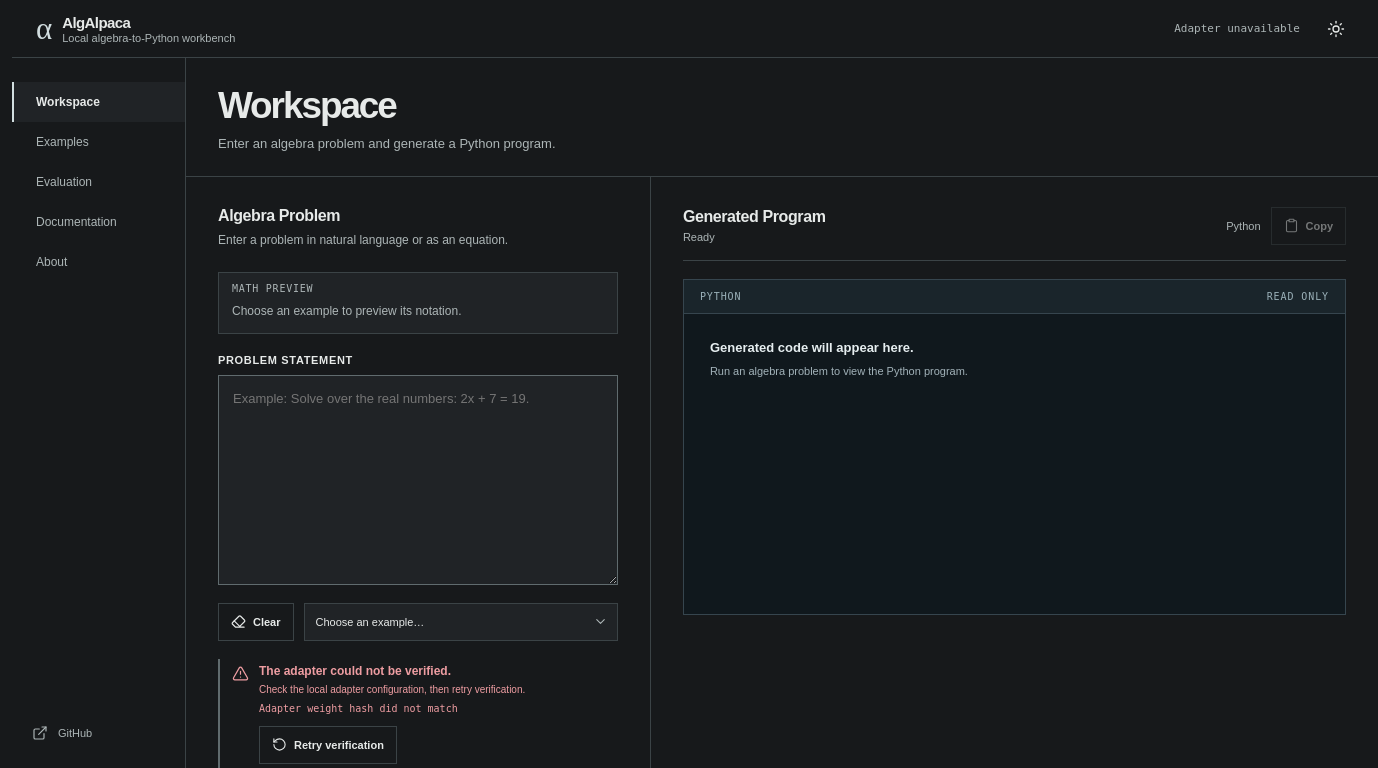
Test: verification and request recovery › enables generation after a deliberate successful retry without losing input
Step 1. Type "Solve x + 1 = 2." into the text box labelled "Problem statement" → (418, 480), box x1=218 y1=375 x2=618 y2=585
(page scrolled)
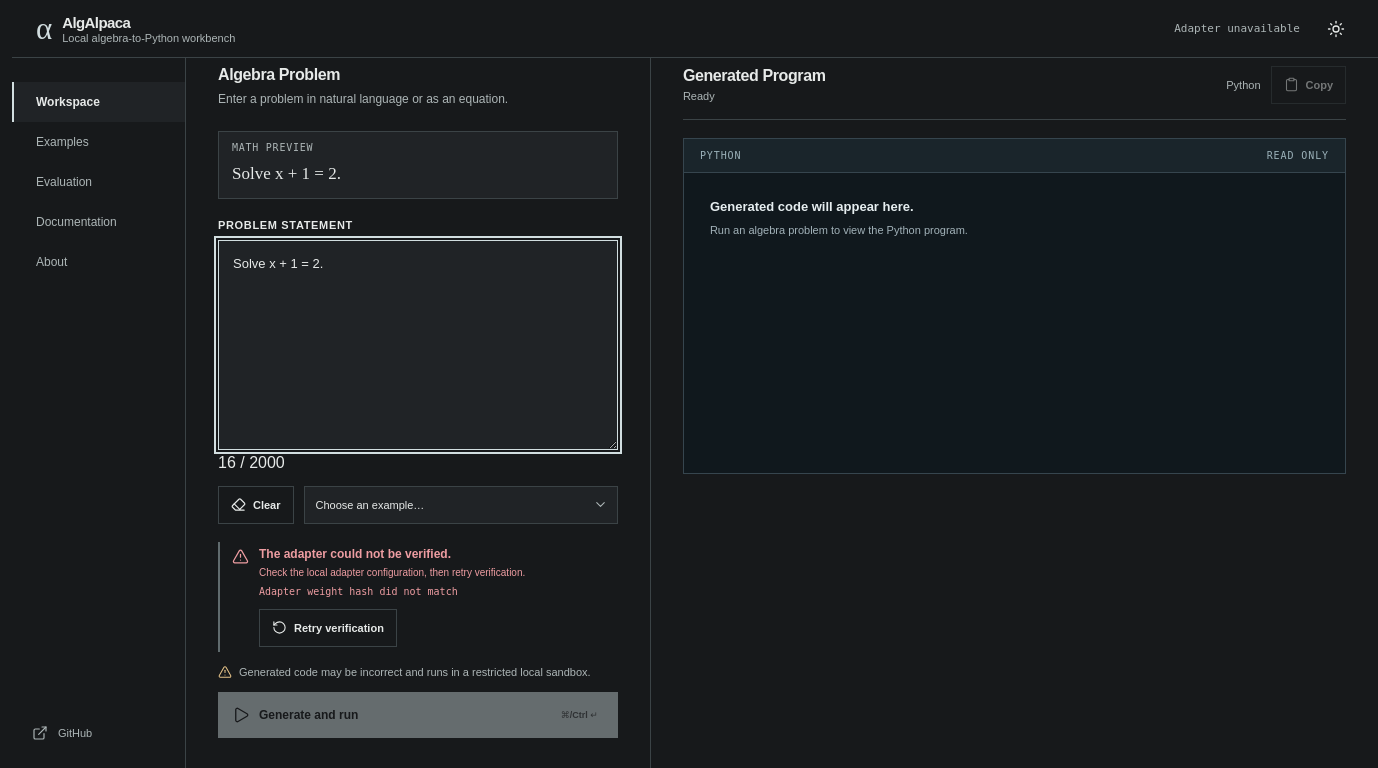
Step 2. Click the button "Retry verification" → (328, 628), box x1=259 y1=609 x2=397 y2=647
(page scrolled)
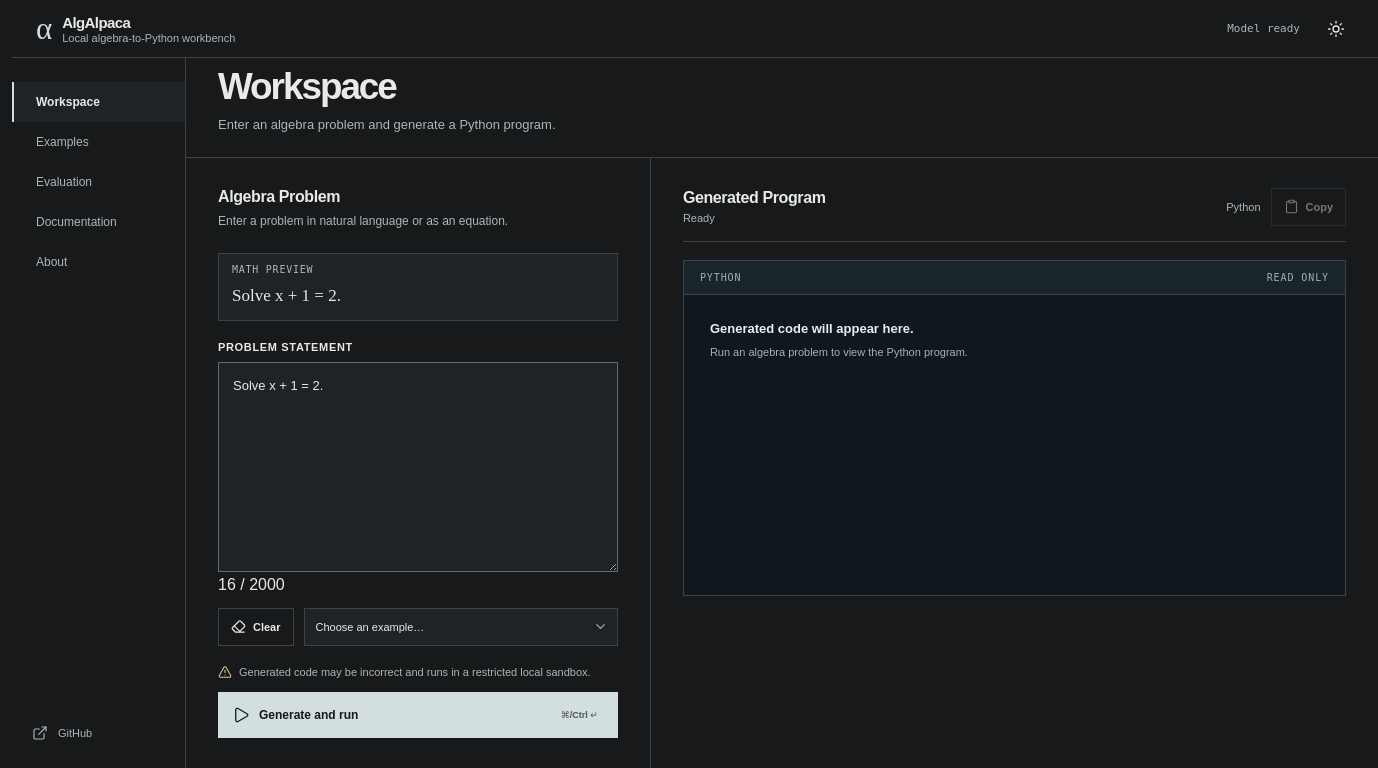
Now the text "The adapter could not be verified." is gone
Now the button "Generate and run ⌘/Ctrl ↵" is enabled, box x1=218 y1=692 x2=618 y2=738
